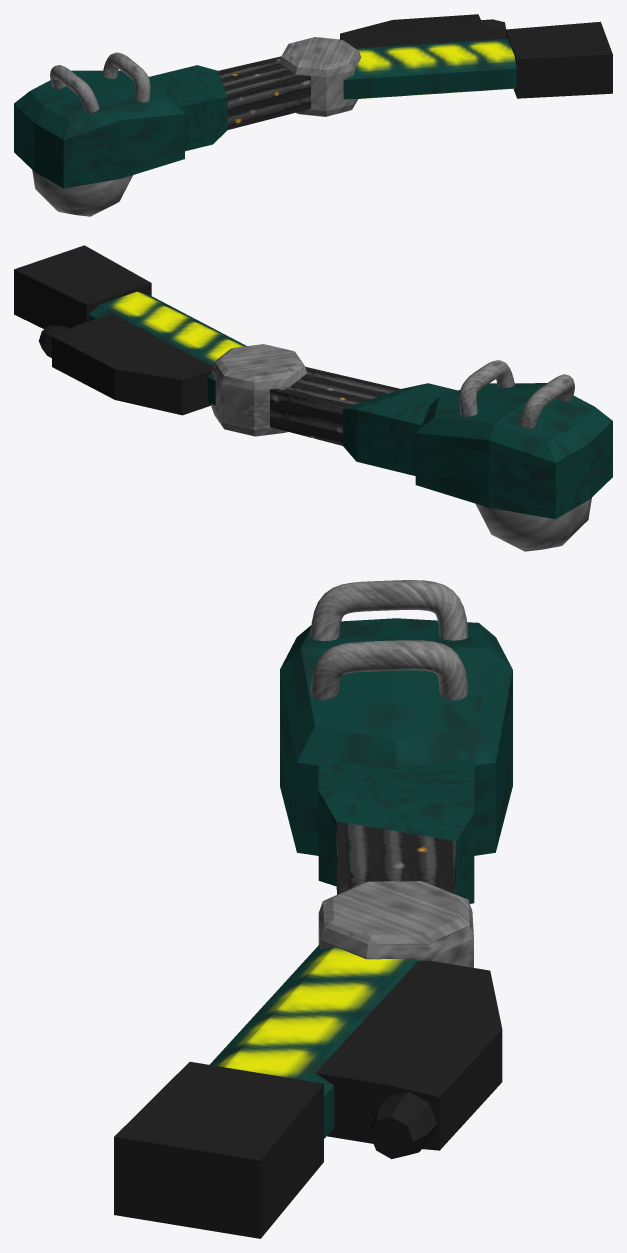
File: Robot 7 L arm .fbx
The picture shows the model from 3 angles, top to bottom: view 1: azimuth 30°, elevation 25°; view 2: azimuth 150°, elevation 25°; view 3: azimuth 270°, elevation 25°; orthographic projection. The views are drawn at different scales.
Visible parts, largest first — view 1: Icosphere.002, Cylinder.006, Cube.013; view 2: Icosphere.002, Cylinder.006, Cube.013; view 3: Icosphere.002, Cylinder.006, Cube.013.
Part boxes in pixels (x1,y1,x2,y2): Icosphere.002: (14,52,310,216); Cylinder.006: (279,14,516,116); Cube.013: (506,21,612,98); Icosphere.002: (270,360,612,551); Cylinder.006: (39,291,307,436); Cube.013: (14,245,151,328); Icosphere.002: (280,580,512,903); Cylinder.006: (209,881,502,1159); Cube.013: (114,1061,323,1238).
Bounding box in the file's own units: 538 × 137 × 174.
